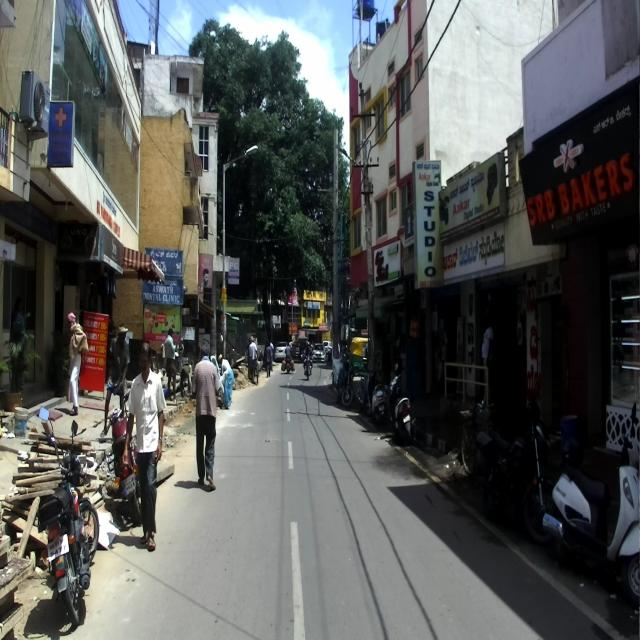motorcycle_Hero: (483, 414, 557, 542)
motorcycle_RoyalEnfield: (104, 388, 142, 526)
motorcycle_TVS: (33, 407, 100, 624)
scooter: (543, 402, 640, 607), (386, 361, 412, 444)
